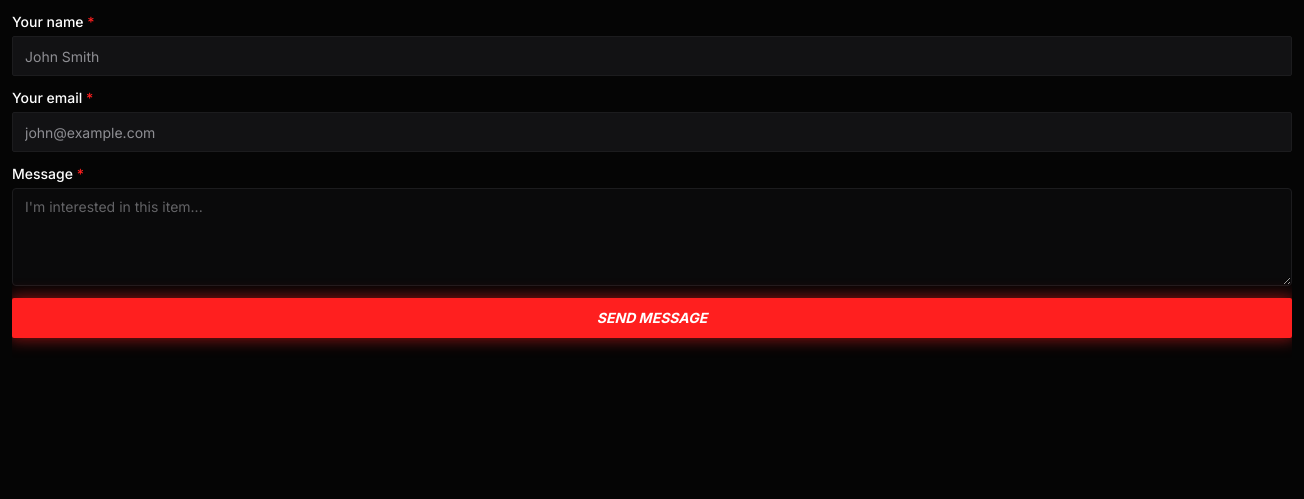
ContactSellerForm FE-07 › shows the real email field message instead of a generic dump
In the field labelled "Your name *": {"x": 652, "y": 56} [12,36,1292,76], type "Alex Buyer"
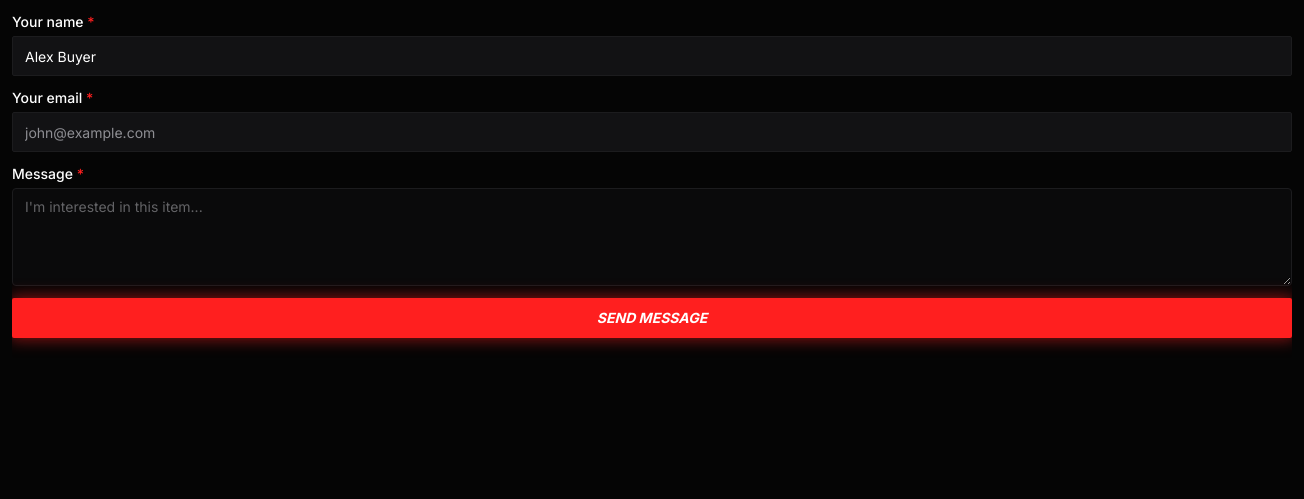
In the field labelled "Your email *": {"x": 652, "y": 132} [12,112,1292,152], type "alex@example.com"
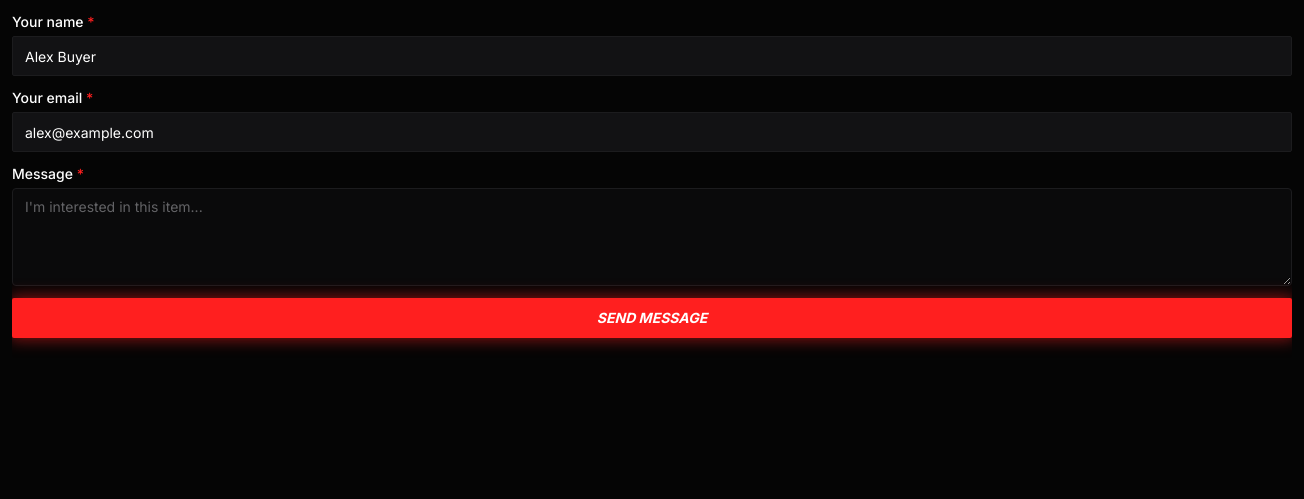
In the text box with placeholder "I'm interested in this item...": {"x": 652, "y": 237} [12,188,1292,286], type "Is this vehicle still available today?"
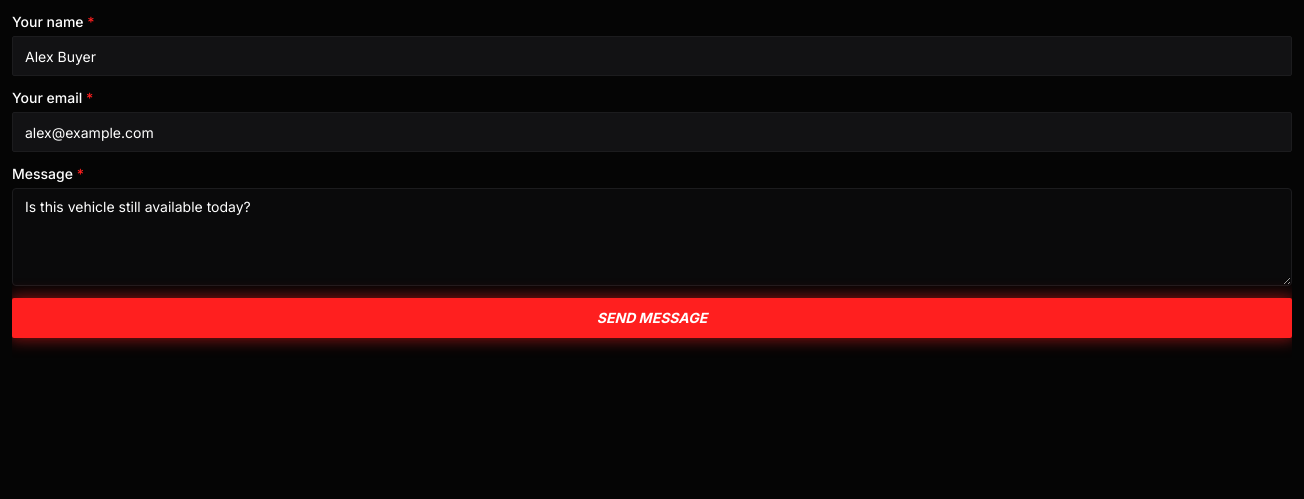
Click the button "Send Message": {"x": 652, "y": 318} [12,298,1292,338]
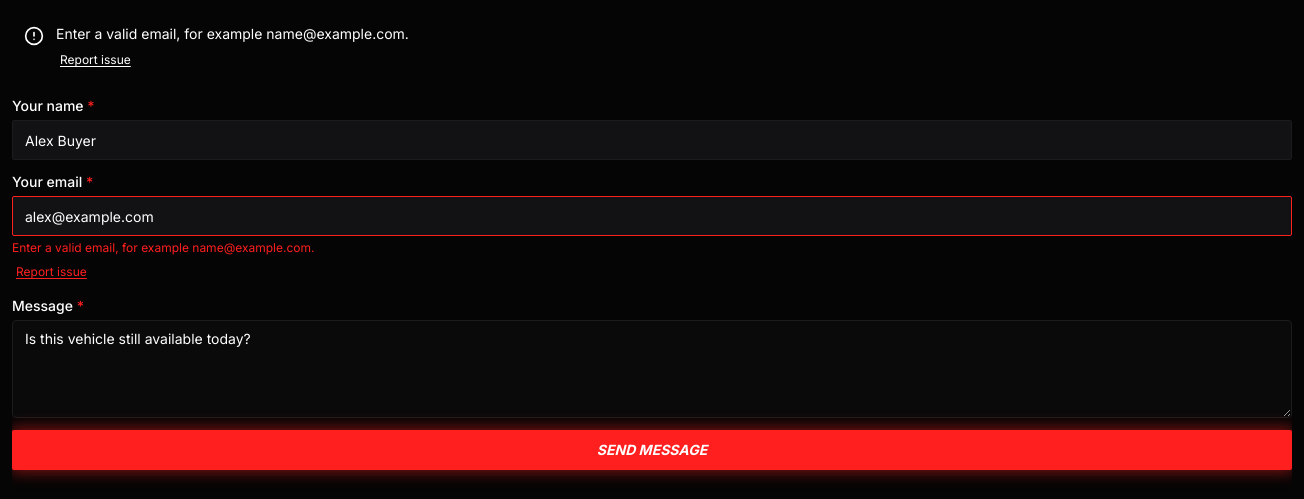
Now the text "Enter a valid email, for example name@example.com." is shown, box [56,25,409,42]
